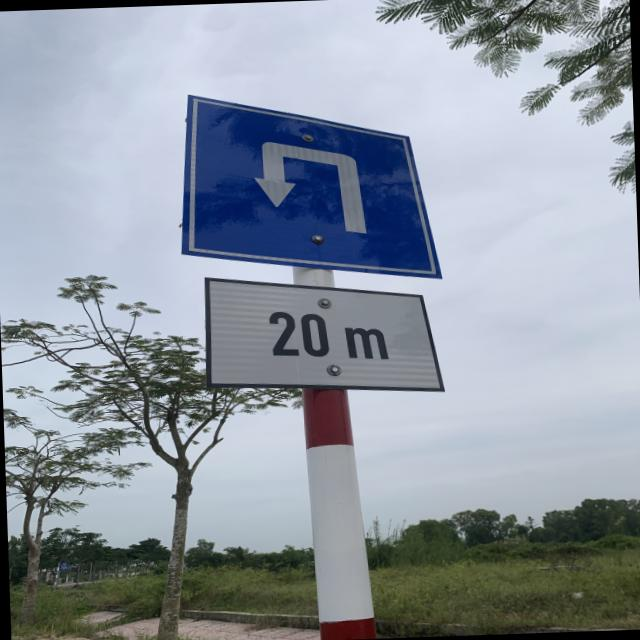Den_Giao_Thong: (179, 84, 439, 281)
